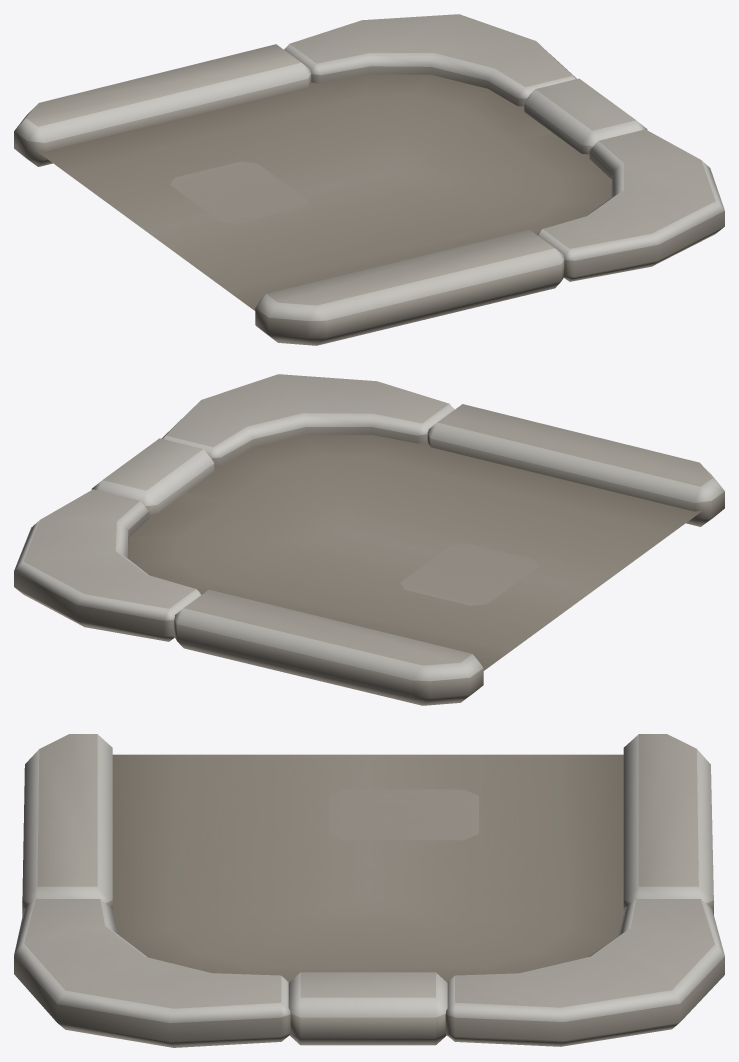
Rendered from path_park_dead_end.fbx.
3 views of the same model, one above another, from view 1: azimuth 30°, elevation 25°; view 2: azimuth 150°, elevation 25°; view 3: azimuth 270°, elevation 25° (orthographic). The views are drawn at different scales.
Visible parts, largest first — view 1: path_park_dead_end; view 2: path_park_dead_end; view 3: path_park_dead_end.
Part boxes in pixels (x1=…): path_park_dead_end: x1=14, y1=14, x2=724, y2=345; path_park_dead_end: x1=14, y1=374, x2=724, y2=705; path_park_dead_end: x1=14, y1=734, x2=724, y2=1047.
Bounding box in the file's own units: 442 × 35 × 473.
